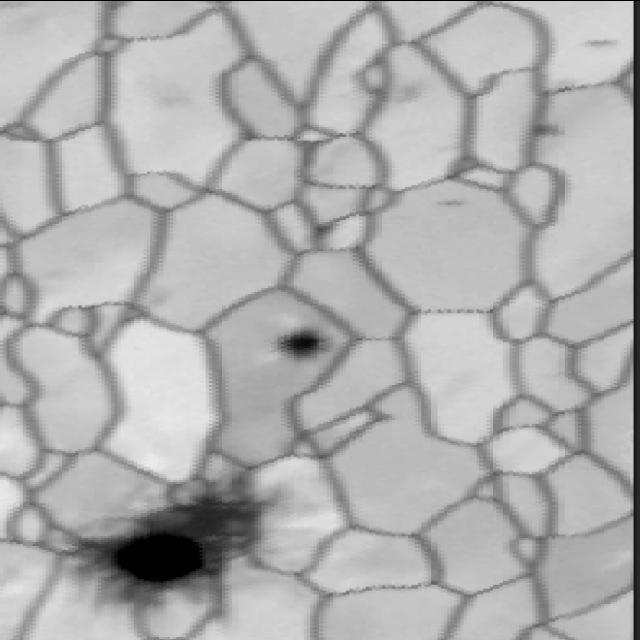good_void: (57, 458, 328, 590), (263, 319, 344, 369), (388, 77, 441, 110), (522, 114, 575, 145), (570, 31, 630, 52), (432, 193, 478, 212), (150, 292, 181, 310)
